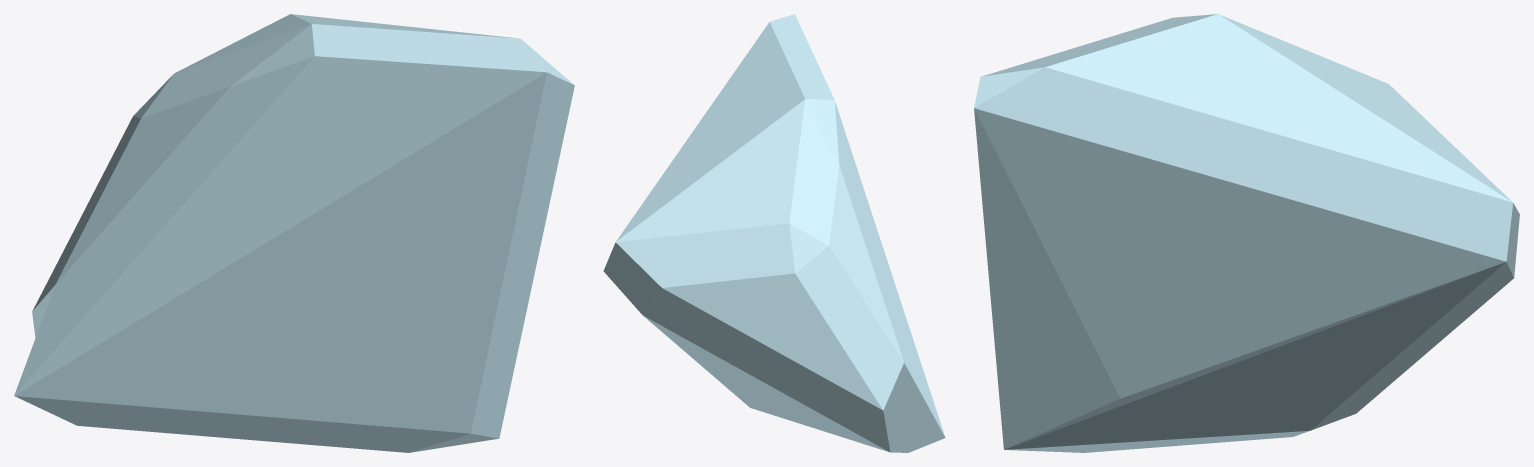
The model's file is ice_chunk_e.glb.
The picture shows the model from 3 angles, left to right: view 1: azimuth 30°, elevation 25°; view 2: azimuth 150°, elevation 25°; view 3: azimuth 270°, elevation 25°; orthographic projection. The views are drawn at different scales.
Parts seen in each view (by area): view 1: IceChunk; view 2: IceChunk; view 3: IceChunk.
Part boxes in pixels (<box>): IceChunk: <box>14,14,574,452</box>; IceChunk: <box>603,14,945,452</box>; IceChunk: <box>974,14,1519,452</box>.
Size of the model in its own units: 0.4454 by 0.4396 by 0.5003.
